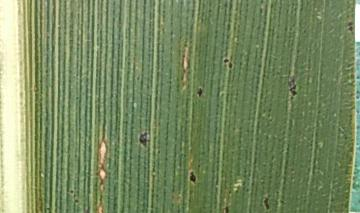tarspot: (134, 128, 153, 150), (287, 81, 300, 101), (262, 191, 272, 213), (187, 170, 199, 186), (194, 84, 206, 100), (221, 203, 232, 213), (221, 56, 232, 65)
